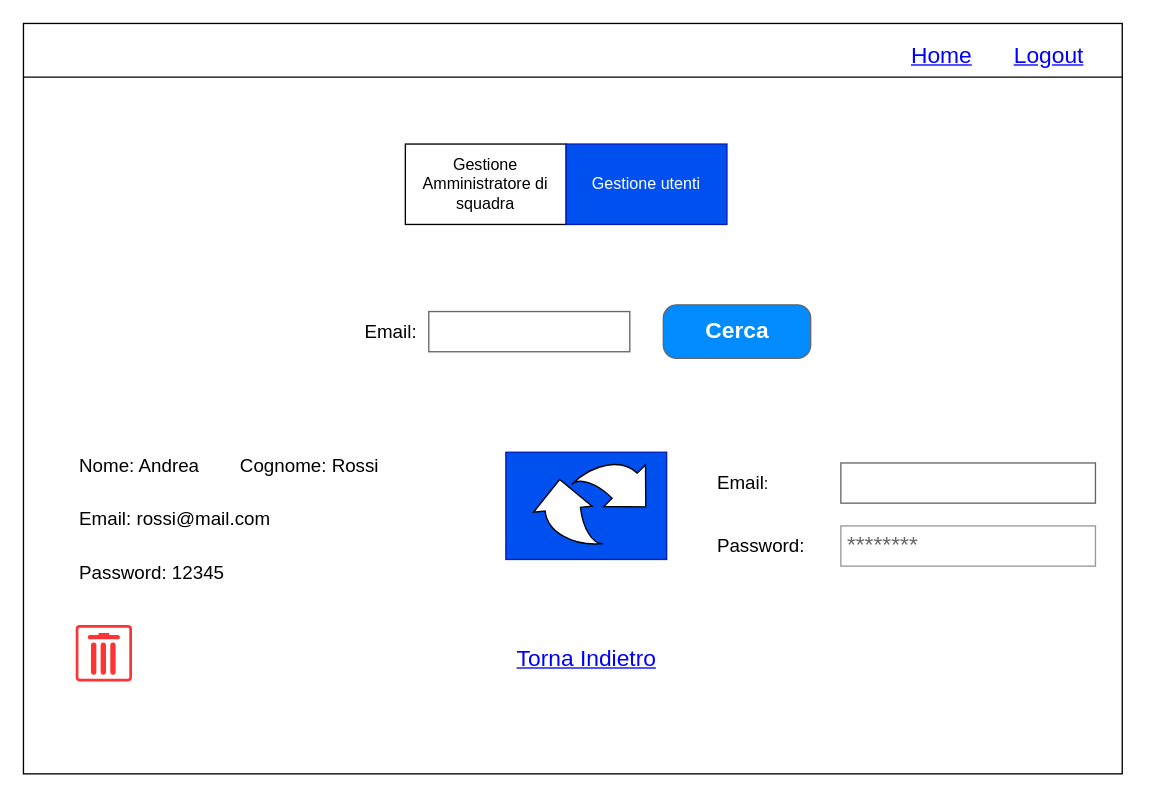
This 1173x797 diagram has some shape labels left out. Each missing label, with the box of its shape:
rossi@mail.com: (427, 310, 630, 352)
rossiandrea@mail.com: (840, 462, 1095, 503)
